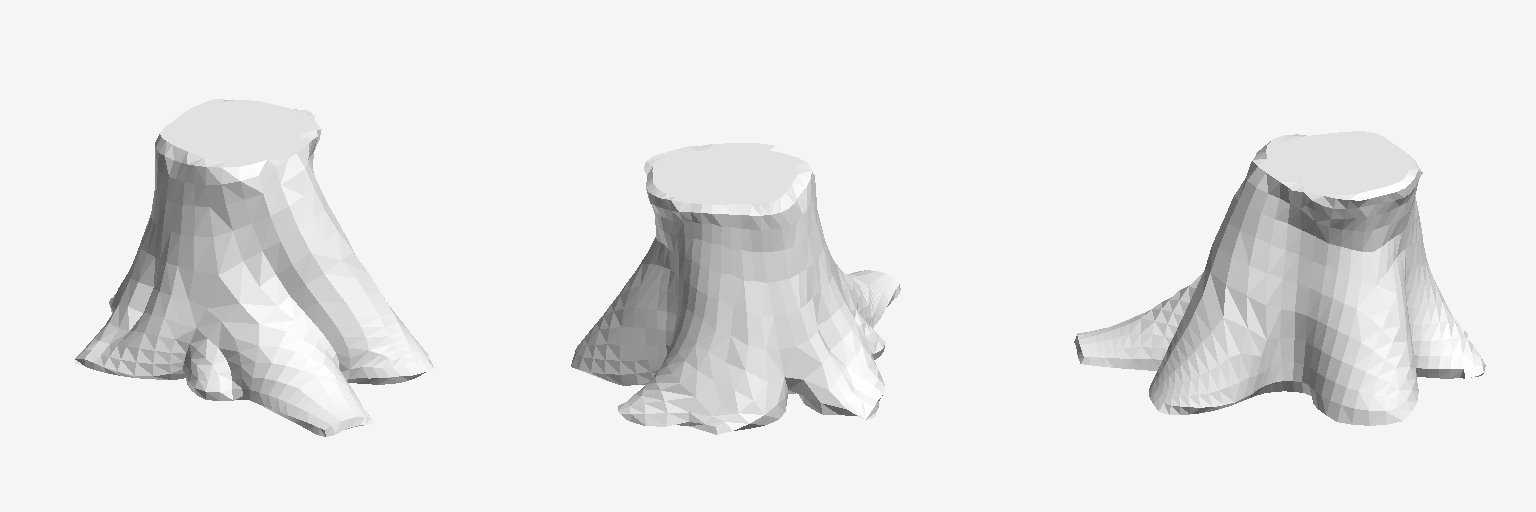
File: Stump02.Obj
The picture shows the model from 3 angles: view 1: azimuth 30°, elevation 25°; view 2: azimuth 150°, elevation 25°; view 3: azimuth 270°, elevation 25°; orthographic projection.
Visible parts, largest first — view 1: Volume111; view 2: Volume111; view 3: Volume111.
Boxes of the visible parts, x1,y1,x2,y2 form: Volume111: [75, 99, 434, 436]; Volume111: [571, 143, 900, 434]; Volume111: [1074, 131, 1485, 425].
Bounding box in the file's own units: 153 × 101 × 189.